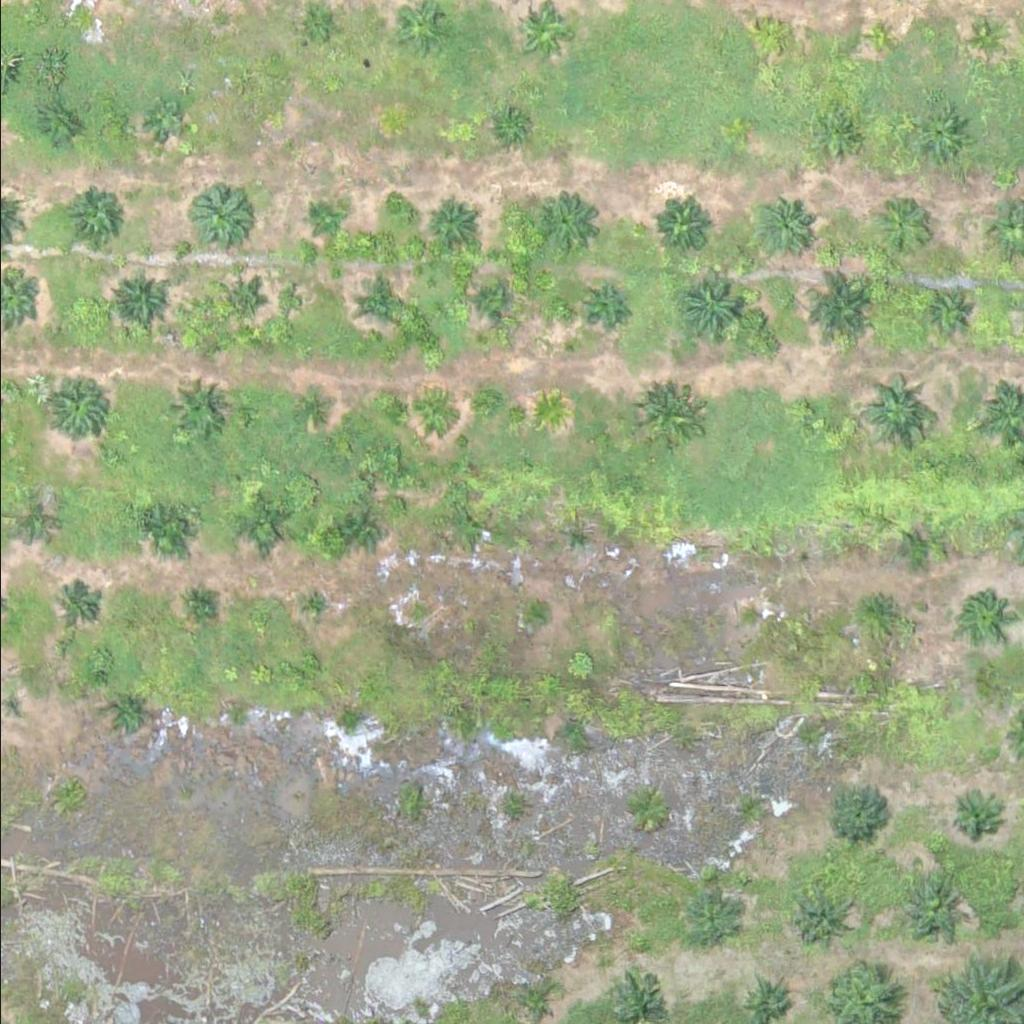Kelapa_Sawit: (794, 265, 882, 352), (855, 373, 931, 448), (676, 268, 751, 343), (192, 182, 255, 245), (870, 191, 933, 254), (753, 194, 816, 257), (787, 888, 850, 951), (828, 783, 891, 846), (636, 385, 699, 448), (904, 105, 967, 168), (65, 183, 128, 245), (533, 188, 596, 250), (650, 192, 713, 254), (897, 882, 960, 944), (108, 266, 171, 328), (164, 376, 227, 438), (131, 496, 194, 558), (44, 374, 107, 436), (230, 495, 293, 557), (424, 194, 475, 244), (949, 789, 1000, 839), (354, 271, 405, 321), (890, 523, 941, 573), (855, 585, 906, 635), (50, 577, 101, 627), (575, 275, 625, 325), (681, 895, 731, 945), (617, 971, 667, 1021), (958, 590, 1008, 640), (816, 108, 866, 158), (6, 492, 56, 542), (103, 691, 153, 741), (212, 272, 262, 322), (461, 276, 511, 326), (922, 284, 973, 333), (530, 391, 568, 429), (293, 589, 331, 627), (341, 513, 379, 551), (408, 393, 446, 431), (288, 392, 326, 430), (450, 509, 488, 547), (965, 19, 1003, 57), (858, 21, 896, 59), (758, 17, 796, 55), (487, 108, 525, 146), (52, 2, 90, 40), (36, 107, 74, 144), (556, 518, 594, 555), (304, 199, 342, 236), (299, 7, 336, 44), (149, 102, 186, 139), (189, 591, 215, 616), (529, 603, 554, 628), (738, 600, 763, 625), (791, 401, 816, 426)
